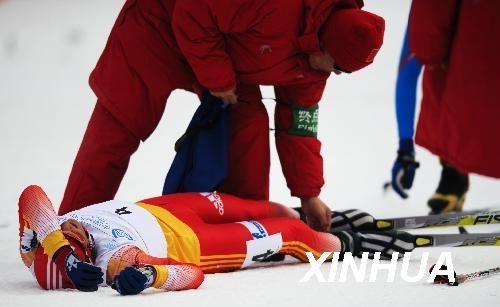falling: (11, 180, 376, 295)
